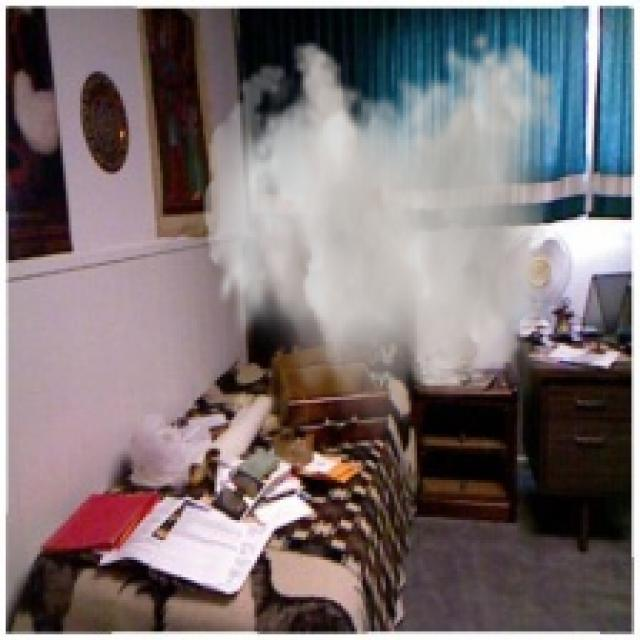smoke: (203, 29, 563, 452)
